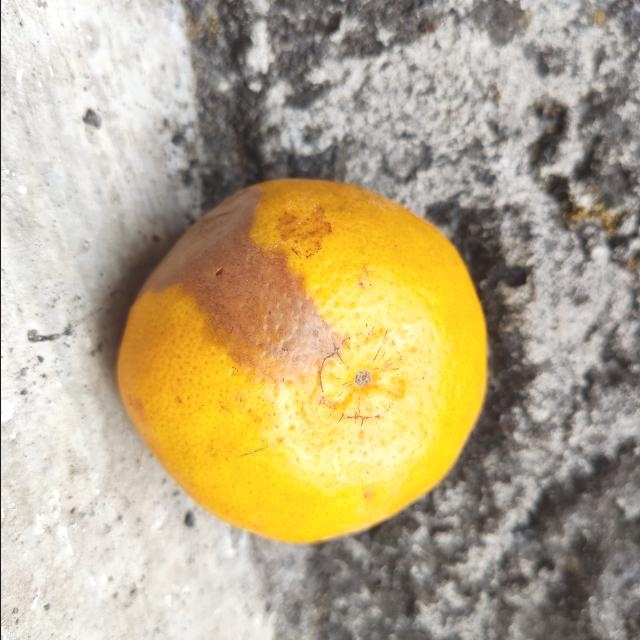agrume: (115, 178, 489, 546)
